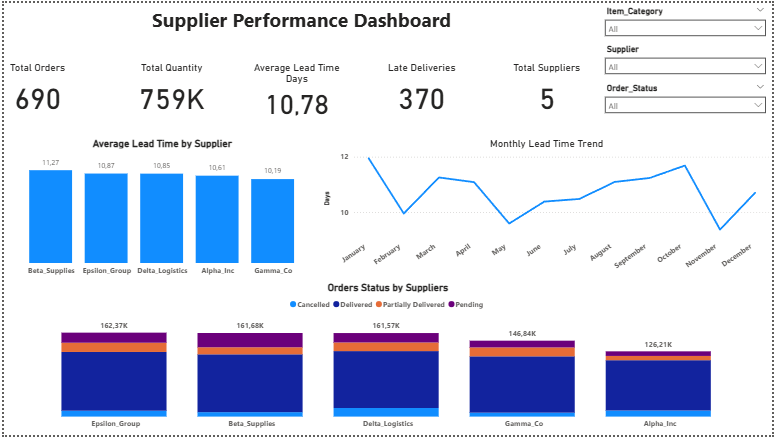

What the dashboard file says about the page in this screenshot:
{"tool":"powerbi","page":{"name":"Page 1","canvas":[1280,720],"ordinal":0},"visuals":[{"type":"card","title":"Total  Orders","fields":{"Values":["CountNonNull(Procurement KPI Analysis Dataset.PO_ID)"]},"box":[0,96,112,96],"z":0},{"type":"card","title":"Total  Quantity","fields":{"Values":["Sum(Procurement KPI Analysis Dataset.Quantity)"]},"box":[192,96,176,96],"z":1000},{"type":"card","title":"Average Lead Time Days","fields":{"Values":["Avg(Procurement KPI Analysis Dataset.Lead Time (Days))"]},"box":[400,96,176,96],"z":2000},{"type":"card","title":"Total  Suppliers","fields":{"Values":["Count(Procurement KPI Analysis Dataset.Supplier)"]},"box":[816,96,176,96],"z":3000},{"type":"textbox","box":[0,0,992,80],"z":4000},{"type":"lineStackedColumnComboChart","title":"Orders Status by Suppliers","fields":{"Category":["Procurement KPI Analysis Dataset.Supplier"],"Series":["Procurement KPI Analysis Dataset.Order_Status"],"Y":["Sum(Procurement KPI Analysis Dataset.Quantity)"]},"box":[0,464,1280,256],"z":5000},{"type":"clusteredColumnChart","title":"Average Lead Time by Supplier","fields":{"Category":["Procurement KPI Analysis Dataset.Supplier"],"Y":["Avg(Procurement KPI Analysis Dataset.Lead Time (Days))"]},"box":[0,224,528,240],"z":7000},{"type":"card","title":"Late Deliveries","fields":{"Values":["Procurement KPI Analysis Dataset.Late Deliveries"]},"box":[608,96,176,96],"z":7002},{"type":"lineChart","title":"Monthly Lead Time Trend","fields":{"Y":["Avg(Procurement KPI Analysis Dataset.Lead Time (Days))"],"Category":["Procurement KPI Analysis Dataset.Order_Date.Variation.Date Hierarchy.Month"]},"box":[528,224,752,240],"z":7003},{"type":"slicer","fields":{"Values":["Procurement KPI Analysis Dataset.Item_Category"]},"box":[992,0,288,64],"z":7004},{"type":"slicer","fields":{"Values":["Procurement KPI Analysis Dataset.Supplier"]},"box":[992,64,288,64],"z":7005},{"type":"slicer","fields":{"Values":["Procurement KPI Analysis Dataset.Order_Status"]},"box":[992,128,288,64],"z":7006}]}

Visuals, with their boxes in screenshot pixels (x1, y1, x2, y2), scaled from the page's 1280x720 canvas onto the 774x439 screenshot:
"Total  Orders" card: <bbox>0, 59, 68, 117</bbox>
"Total  Quantity" card: <bbox>116, 59, 223, 117</bbox>
"Average Lead Time Days" card: <bbox>242, 59, 348, 117</bbox>
"Total  Suppliers" card: <bbox>493, 59, 600, 117</bbox>
textbox: <bbox>0, 0, 600, 49</bbox>
"Orders Status by Suppliers" lineStackedColumnComboChart: <bbox>0, 283, 773, 438</bbox>
"Average Lead Time by Supplier" clusteredColumnChart: <bbox>0, 137, 319, 283</bbox>
"Late Deliveries" card: <bbox>368, 59, 474, 117</bbox>
"Monthly Lead Time Trend" lineChart: <bbox>319, 137, 773, 283</bbox>
slicer - Procurement KPI Analysis Dataset.Item_Category: <bbox>600, 0, 773, 39</bbox>
slicer - Procurement KPI Analysis Dataset.Supplier: <bbox>600, 39, 773, 78</bbox>
slicer - Procurement KPI Analysis Dataset.Order_Status: <bbox>600, 78, 773, 117</bbox>
